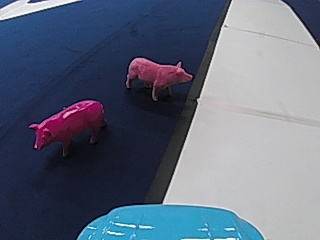pig: (26, 97, 107, 154), (121, 52, 192, 100)
